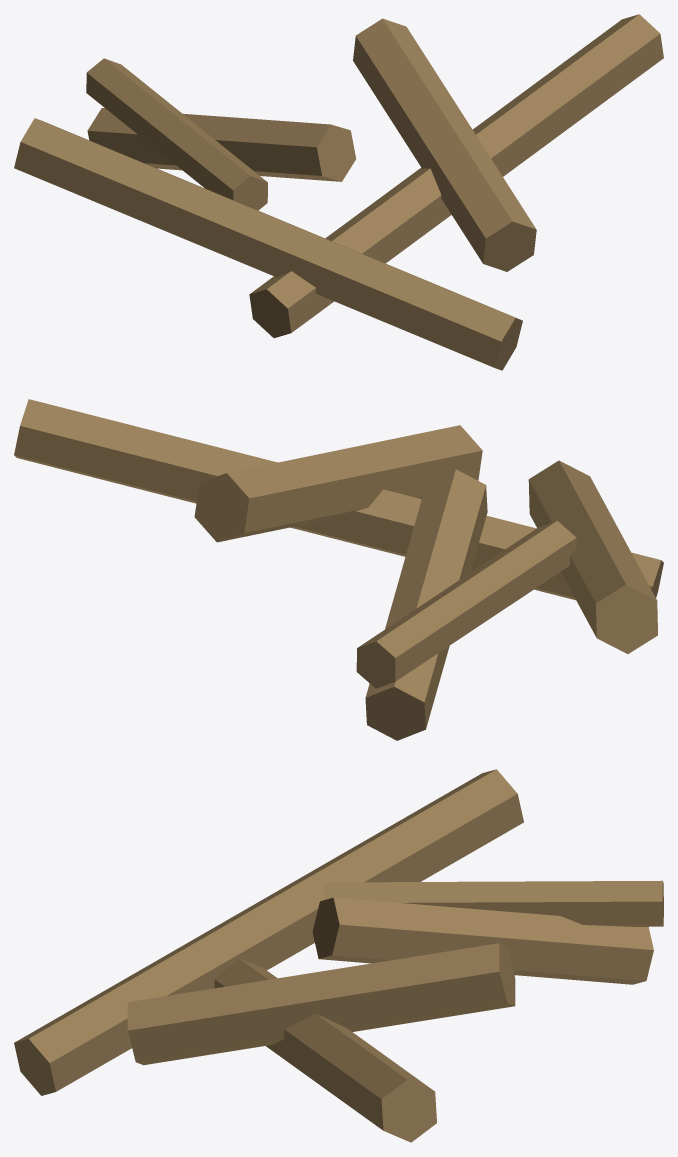
Rendered from P_Driftwood.glb.
The picture shows the model from 3 angles, top to bottom: view 1: azimuth 30°, elevation 25°; view 2: azimuth 150°, elevation 25°; view 3: azimuth 270°, elevation 25°; orthographic projection. The views are drawn at different scales.
Parts seen in each view (by area): view 1: P_Driftwood; view 2: P_Driftwood; view 3: P_Driftwood.
Boxes of the visible parts, box(x1,y1,x2,y2) form: P_Driftwood: box(14, 14, 663, 370); P_Driftwood: box(14, 399, 663, 740); P_Driftwood: box(14, 769, 663, 1142).
Bounding box in the file's own units: 1.84 × 0.5244 × 1.55.
